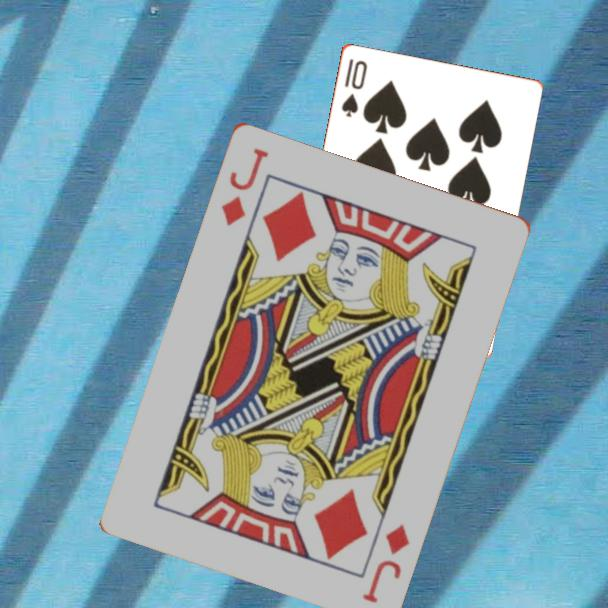d11: (358, 520, 413, 606), (217, 144, 271, 228)
s10: (338, 55, 370, 119)
